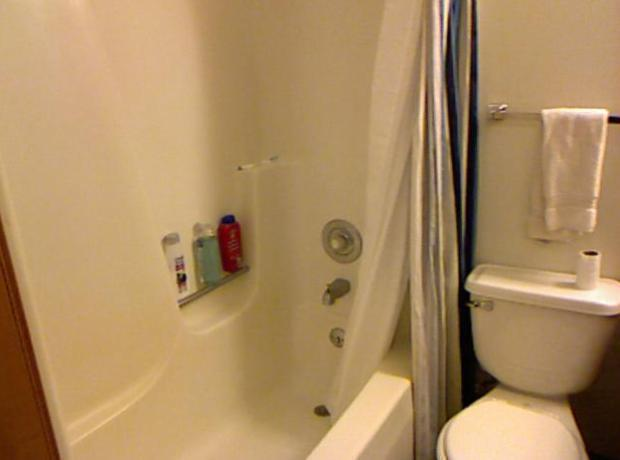Sanitario: (431, 264, 619, 459)
